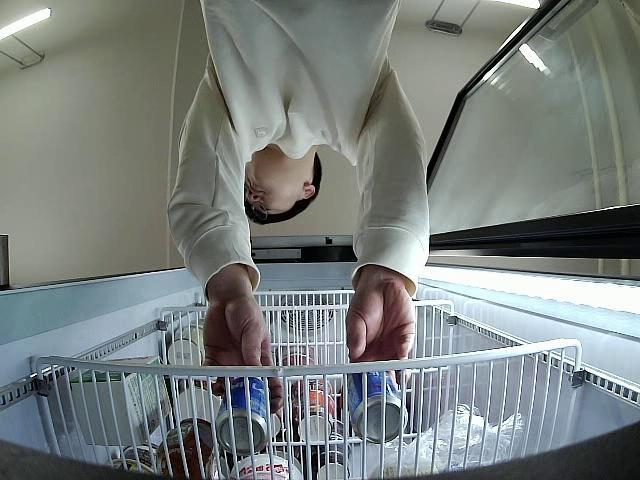15_letsbe: (344, 362, 410, 446), (213, 374, 270, 456)
